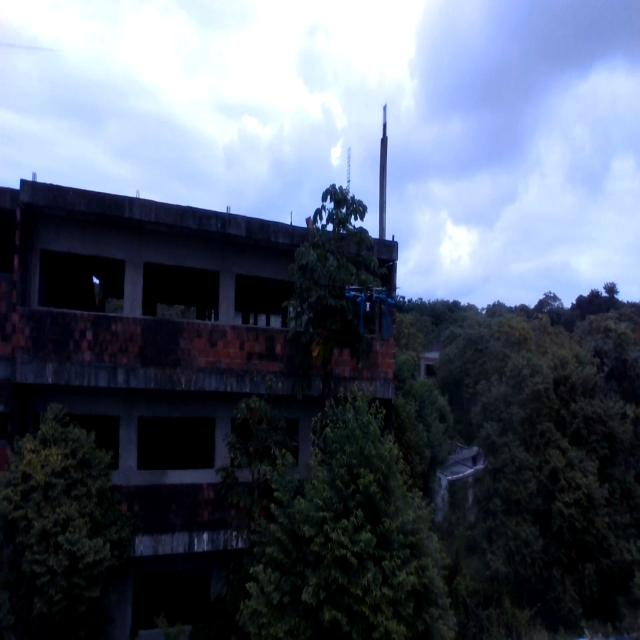-uav-: (346, 268, 389, 339)
